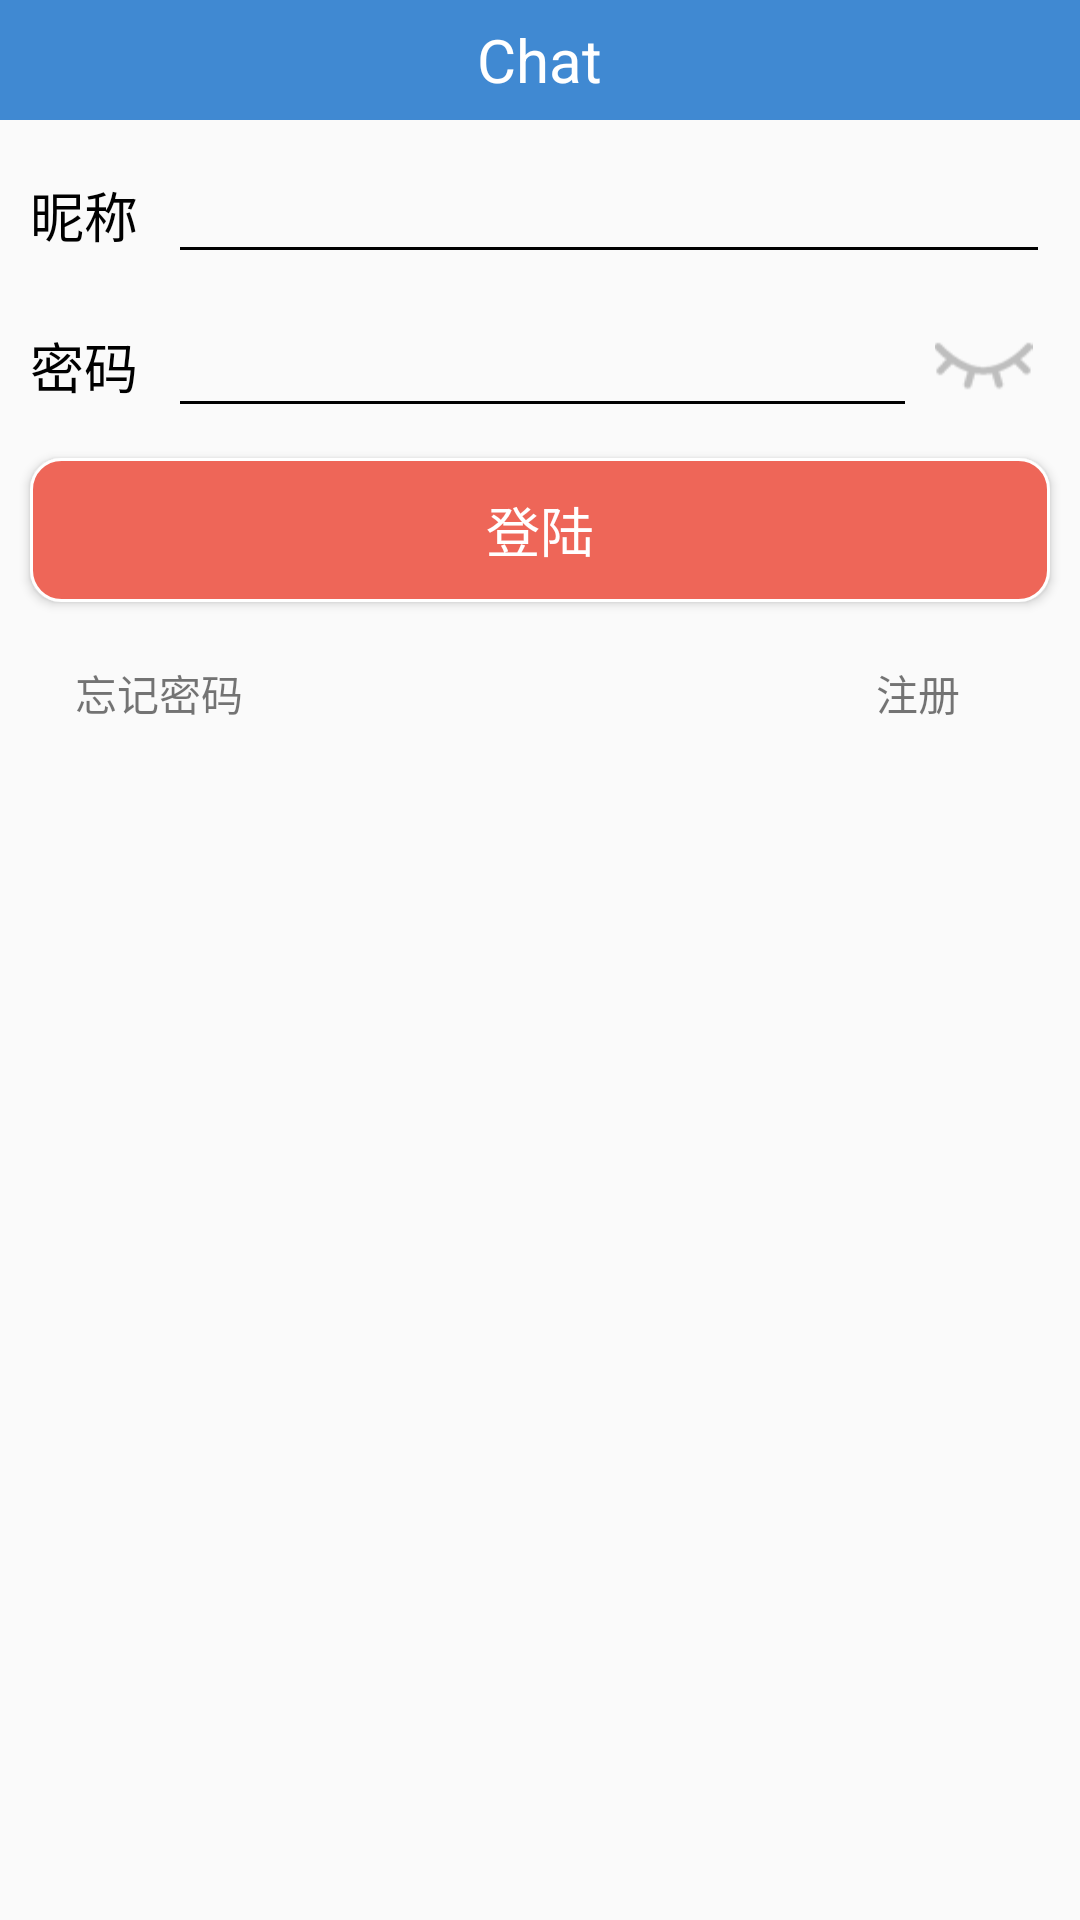

Named icons in this screenshot (1080*1920) and their centers, (x=x, y=y):
landing close eye: (x=984, y=366)
